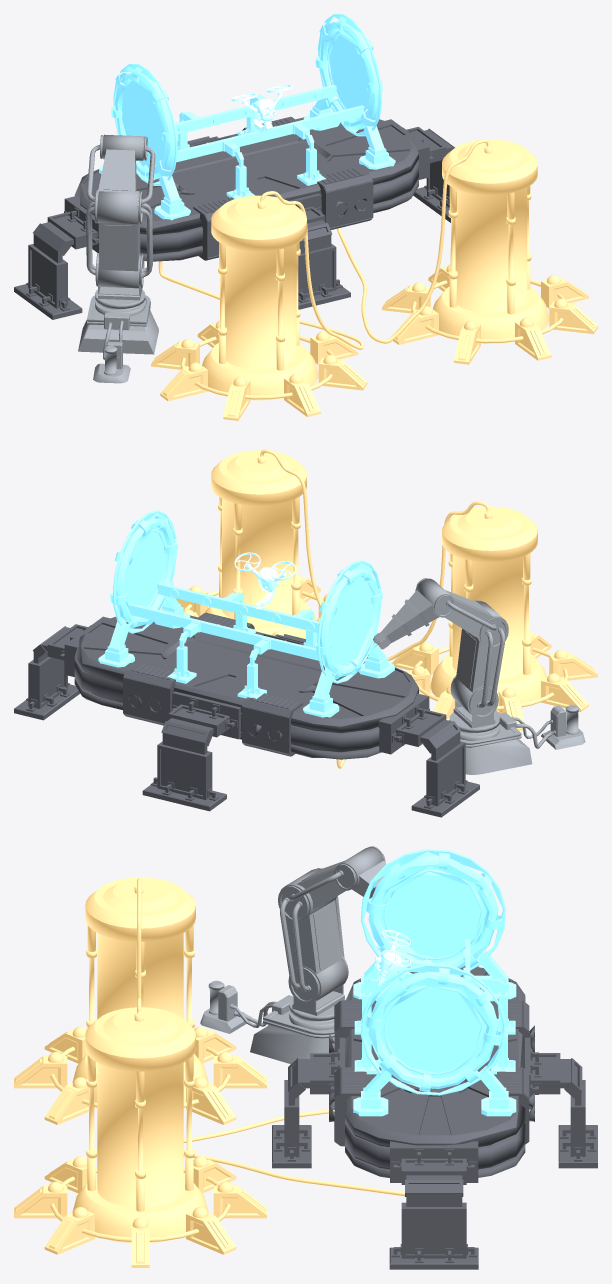
The model's file is portal_lab.glb.
The picture shows the model from 3 angles, top to bottom: view 1: azimuth 30°, elevation 25°; view 2: azimuth 150°, elevation 25°; view 3: azimuth 270°, elevation 25°; orthographic projection. The views are drawn at different scales.
Visible parts, largest first — view 1: Battery, Platform, Portal, Arm, Flying_Robot; view 2: Platform, Battery, Portal, Arm, Flying_Robot; view 3: Battery, Platform, Portal, Arm, Flying_Robot.
Boxes of the visible parts, left/top/right/bottom form: Battery: left=151, top=139, right=597, bottom=420; Platform: left=14, top=116, right=454, bottom=319; Portal: left=99, top=14, right=395, bottom=220; Arm: left=78, top=134, right=158, bottom=383; Flying_Robot: left=231, top=85, right=292, bottom=132; Platform: left=14, top=612, right=479, bottom=817; Battery: left=161, top=449, right=597, bottom=768; Portal: left=98, top=510, right=394, bottom=717; Arm: left=373, top=578, right=585, bottom=774; Flying_Robot: left=234, top=552, right=296, bottom=609; Battery: left=14, top=877, right=404, bottom=1267; Platform: left=272, top=966, right=597, bottom=1269; Portal: left=353, top=848, right=516, bottom=1116; Arm: left=200, top=846, right=385, bottom=1064; Flying_Robot: left=374, top=930, right=410, bottom=989.
Bounding box in the file's own units: 11.63 × 5.11 × 11.12.
